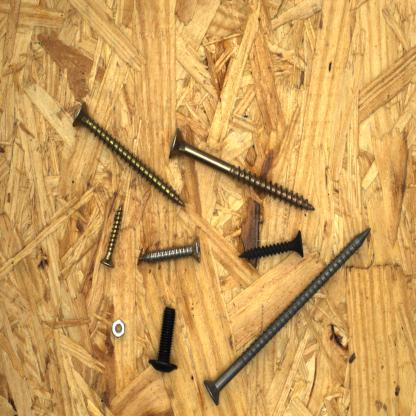screw: (202, 226, 373, 408), (166, 125, 317, 214), (70, 98, 188, 209), (236, 228, 308, 264), (146, 301, 180, 377), (95, 199, 128, 271), (134, 233, 208, 265)
